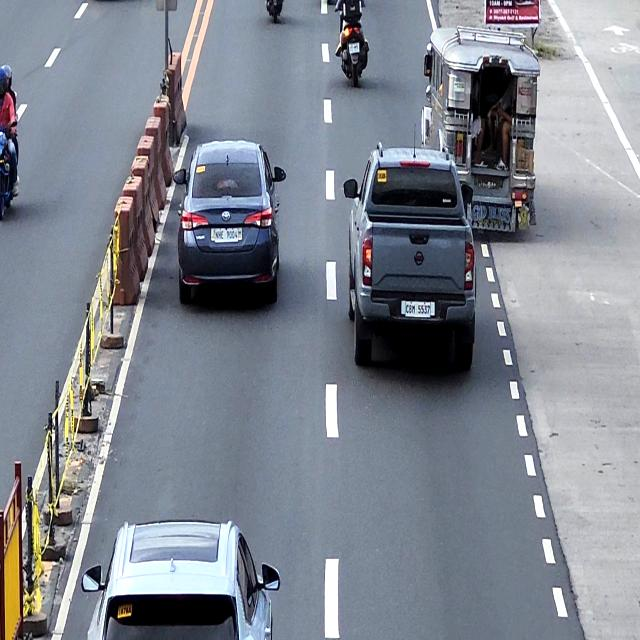Car: (343, 141, 476, 370), (81, 519, 280, 640), (173, 138, 286, 304)
Jeep: (420, 24, 540, 235)
License-Plate: (400, 297, 436, 319), (214, 227, 238, 244), (348, 42, 359, 54)
Motorcycle: (334, 2, 369, 87), (0, 119, 19, 219)
